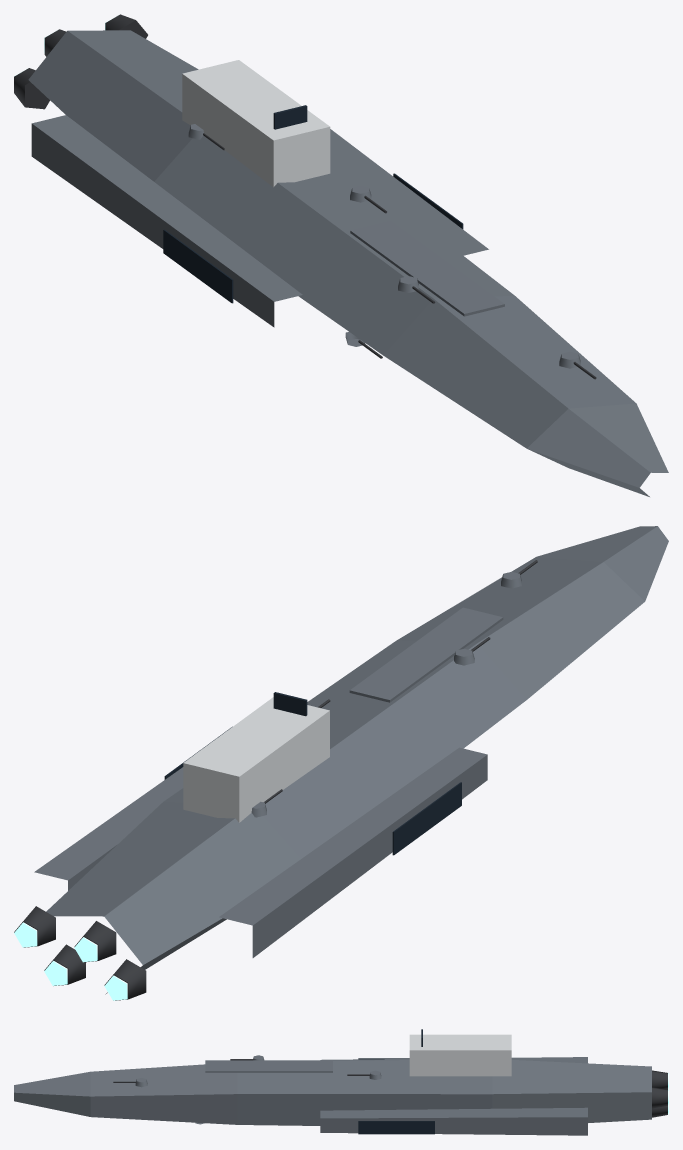
File: space_ship_cruiser_mk3_lod1.glb
The picture shows the model from 3 angles, top to bottom: view 1: azimuth 30°, elevation 25°; view 2: azimuth 150°, elevation 25°; view 3: azimuth 270°, elevation 25°; orthographic projection. The views are drawn at different scales.
Visible parts, largest first — view 1: body, hangar_r, engine_0; view 2: body, hangar_r, engine_1, engine_0, engine_3, engine_2; view 3: body, hangar_l, engine_3, engine_1.
Boxes of the visible parts, box(x1,y1,x2,y2) form: body: box(28, 30, 668, 496); hangar_r: box(163, 229, 233, 303); engine_0: box(14, 68, 49, 109); body: box(34, 526, 668, 994); hangar_r: box(392, 782, 461, 855); engine_1: box(74, 921, 116, 962); engine_0: box(104, 959, 146, 1000); engine_3: box(14, 906, 55, 947); engine_2: box(44, 944, 85, 985); body: box(14, 1029, 651, 1135); hangar_l: box(358, 1121, 434, 1134); engine_3: box(652, 1087, 668, 1108); engine_1: box(652, 1070, 668, 1089).
Size of the model in its own units: 18.56 by 12.07 by 81.48.
